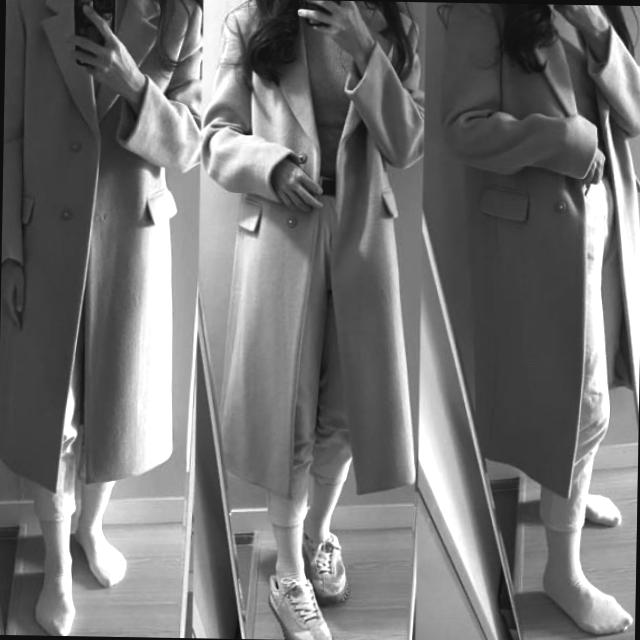coat: (194, 0, 424, 500), (432, 2, 640, 498), (0, 0, 203, 493)
cottonpants: (266, 184, 357, 526), (542, 162, 626, 532), (32, 313, 118, 520)
